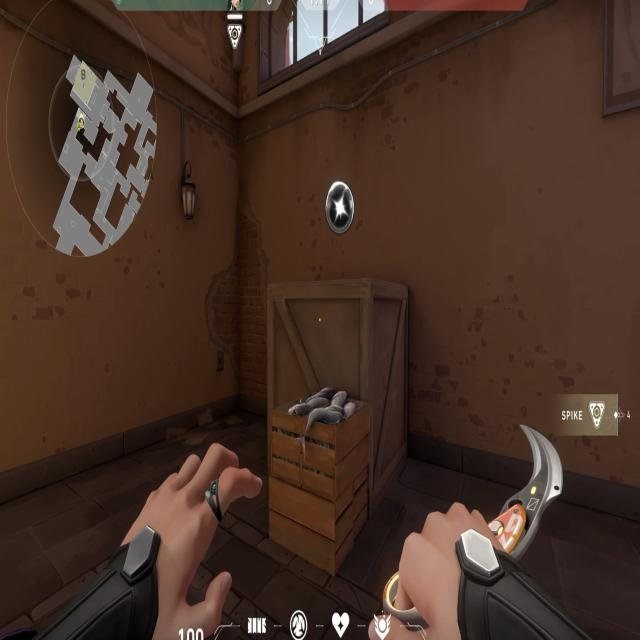B_Main_Wallbang: (254, 162, 430, 575)
Throwables: (250, 3, 399, 89)
